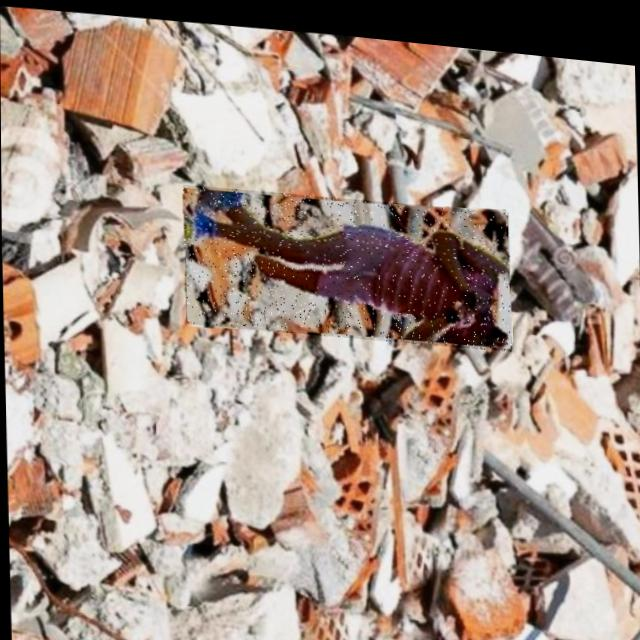Person in Rubble: (181, 174, 510, 346)
